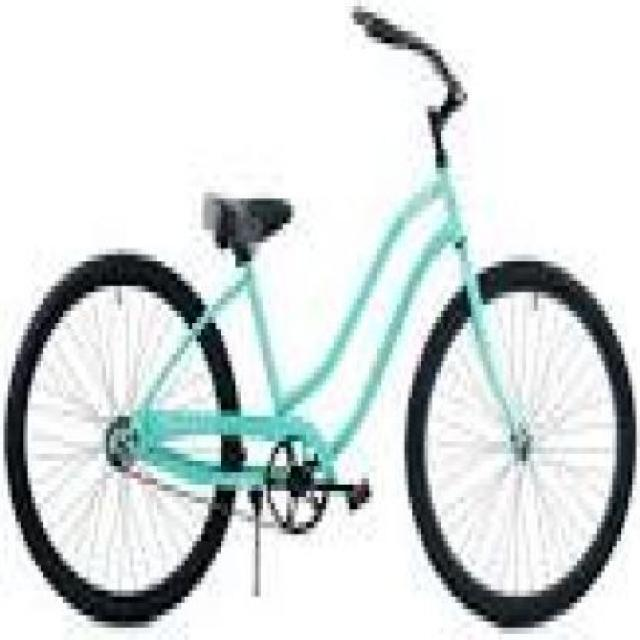bicycle: (1, 6, 640, 631)
